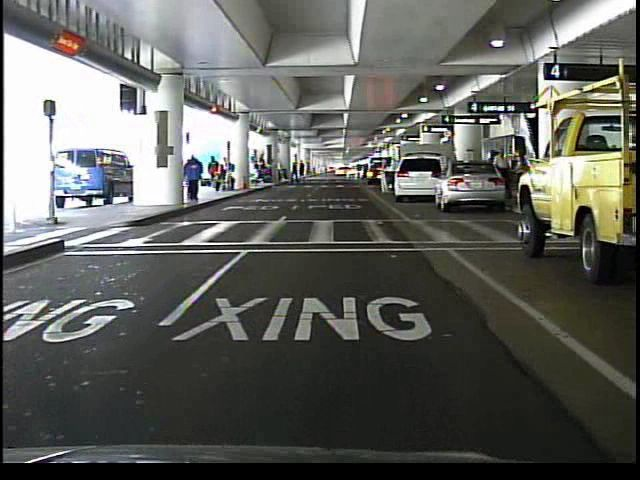person: (182, 152, 206, 205)
